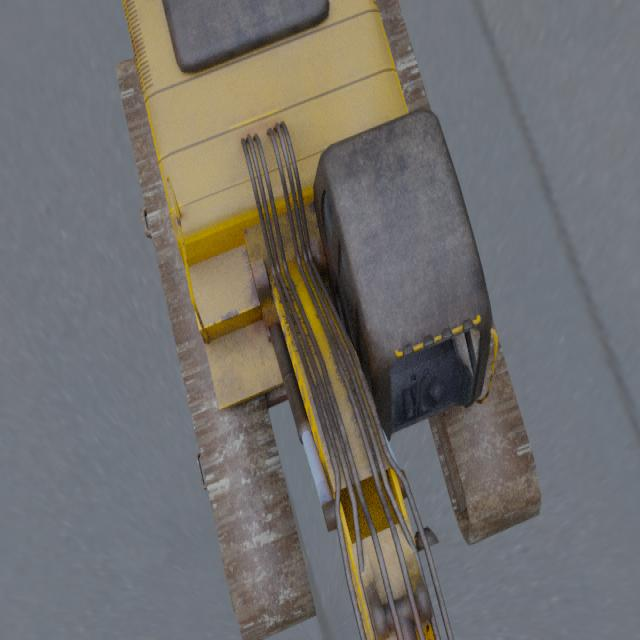excavator: (114, 0, 541, 640)
